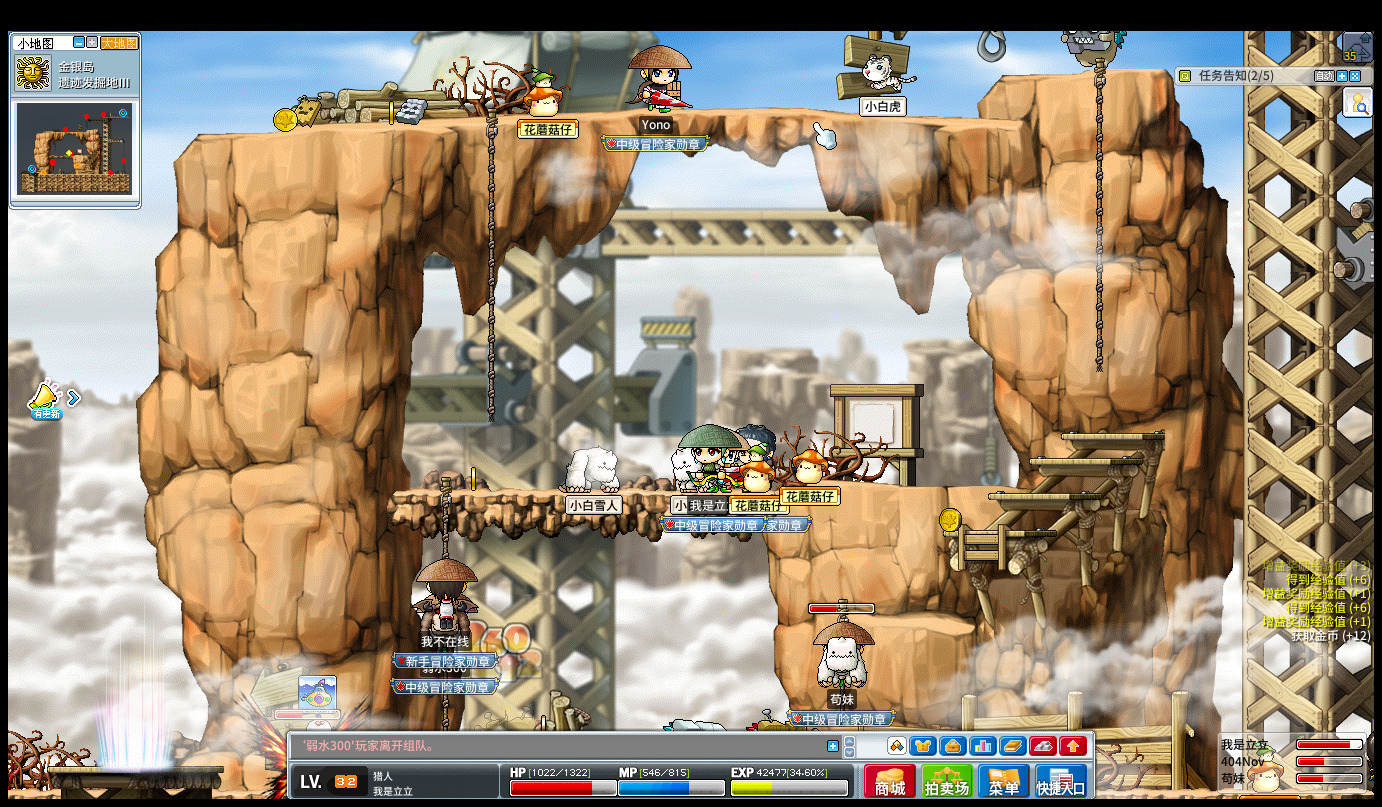floor: (194, 102, 1028, 139), (389, 487, 776, 498), (998, 66, 1168, 81), (870, 612, 975, 635), (869, 482, 1021, 491), (1060, 429, 1165, 441), (939, 528, 1055, 537), (1025, 456, 1142, 464), (988, 492, 1101, 500)
rope: (1092, 49, 1106, 377), (486, 114, 497, 427), (439, 477, 451, 559)
